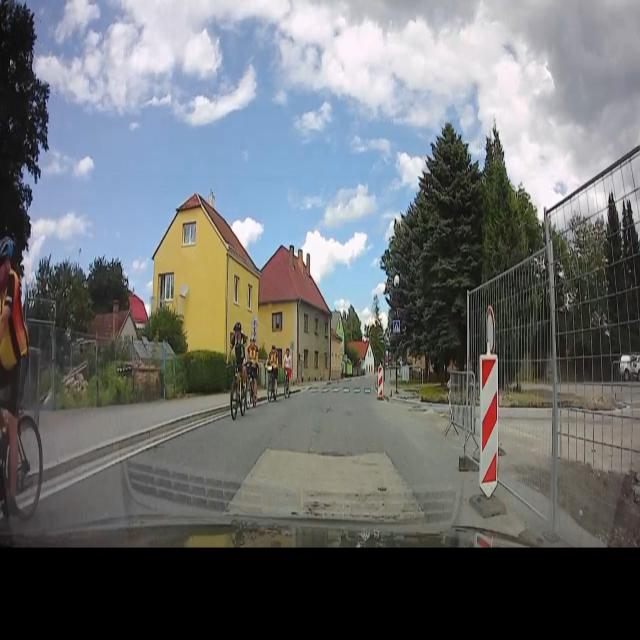Pedestrian crosswalk: (310, 383, 374, 397), (393, 316, 403, 335)
